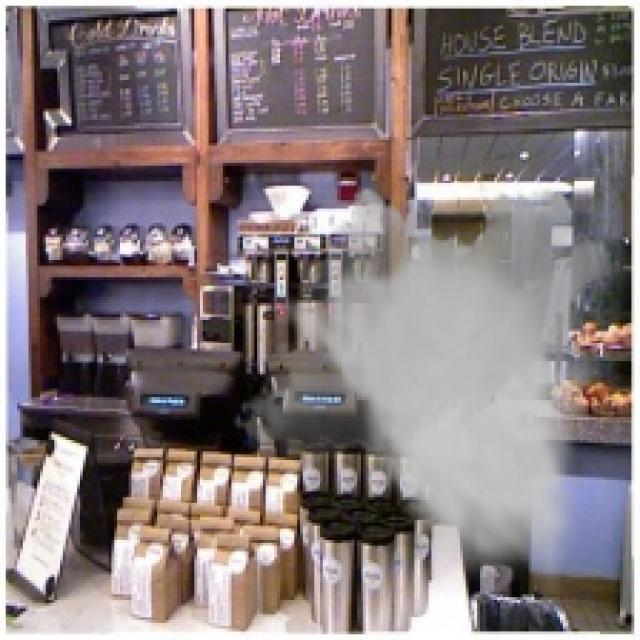Smoke: (231, 177, 623, 594)
